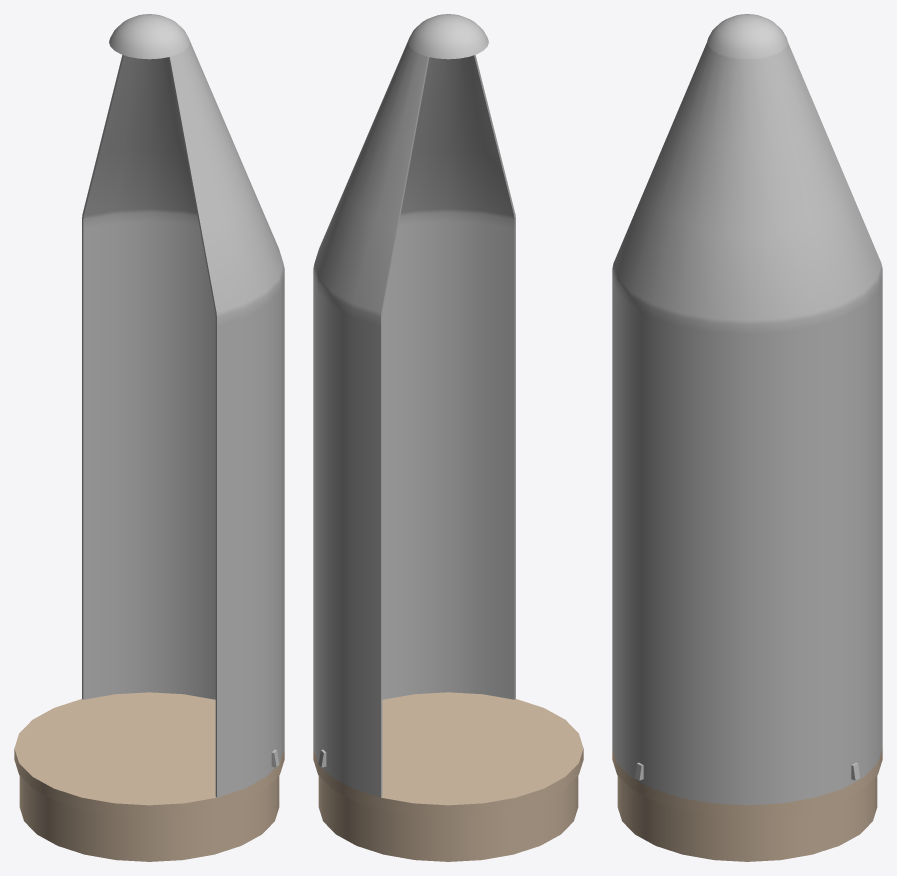
The model's file is h2 fairing.obj.
3 renders of one model, left to right at view 1: azimuth 30°, elevation 25°; view 2: azimuth 150°, elevation 25°; view 3: azimuth 270°, elevation 25°, orthographic.
Visible parts, largest first — view 1: base, fairing, Cylinder5, cone, cap; view 2: base, fairing, Cylinder5, cone, cap; view 3: fairing, base, cone, Cylinder5, cap.
Part boxes in pixels (x1,y1,x2,y2): base: [82, 457, 284, 797]; fairing: [82, 221, 284, 562]; Cylinder5: [14, 692, 284, 861]; cone: [82, 39, 284, 326]; cap: [109, 14, 189, 59]; base: [313, 457, 515, 797]; fairing: [313, 221, 515, 562]; Cylinder5: [313, 692, 583, 861]; cone: [313, 39, 515, 326]; cap: [408, 14, 488, 59]; fairing: [612, 278, 882, 569]; base: [612, 513, 882, 805]; cone: [612, 43, 882, 334]; Cylinder5: [612, 748, 882, 861]; cap: [707, 14, 787, 59].
Size of the model in its own units: 2.6 by 8.38 by 2.6.
